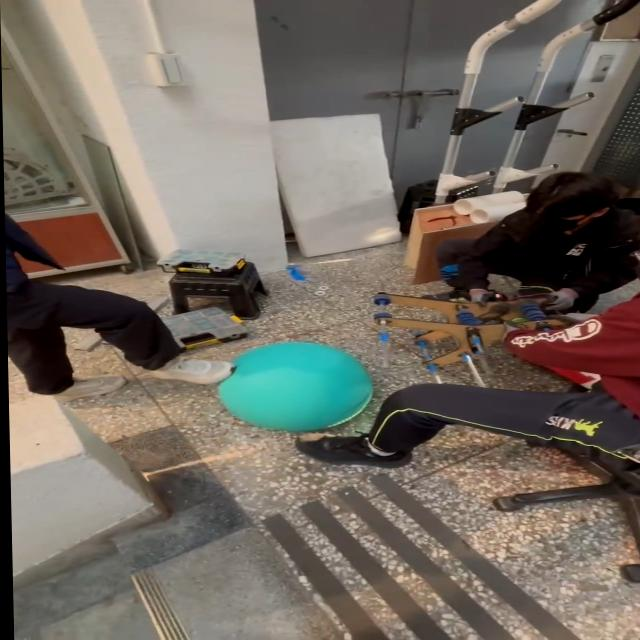ALGAE: (214, 340, 375, 433)
